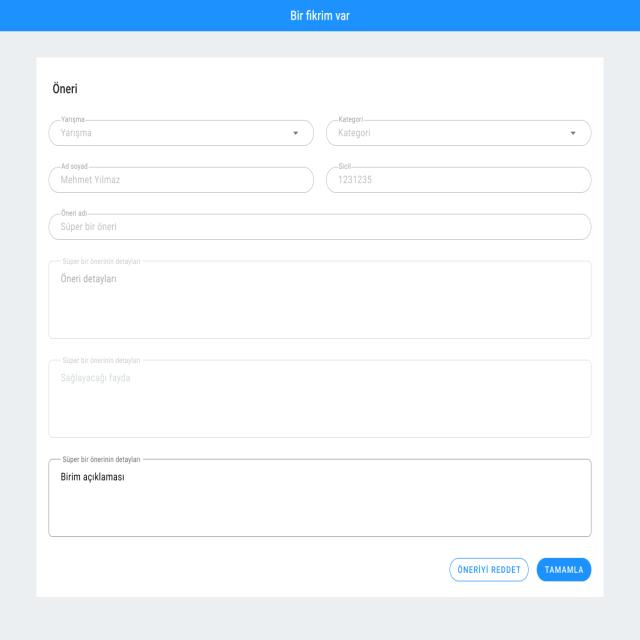QLabel: (289, 8, 351, 23), (455, 565, 523, 576), (48, 78, 80, 97), (544, 565, 584, 576)
VAppBar: (0, 0, 640, 32)
VBtn: (449, 557, 528, 583), (537, 557, 591, 582)
VCard: (37, 56, 604, 600)
VCombobox: (325, 114, 592, 148), (49, 116, 314, 148)
VTextField: (48, 211, 591, 241), (48, 162, 314, 194), (326, 163, 591, 195)
VTextarea: (46, 258, 592, 340), (47, 357, 592, 439), (48, 456, 592, 538)
